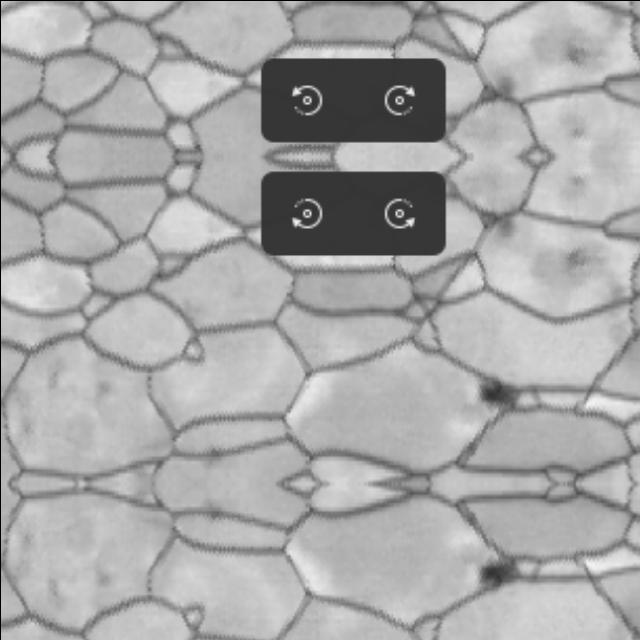good_void: (527, 28, 614, 78), (527, 236, 614, 285), (470, 363, 525, 417), (470, 551, 525, 605), (470, 201, 527, 246), (470, 68, 527, 112), (190, 440, 228, 476), (190, 492, 228, 528)
